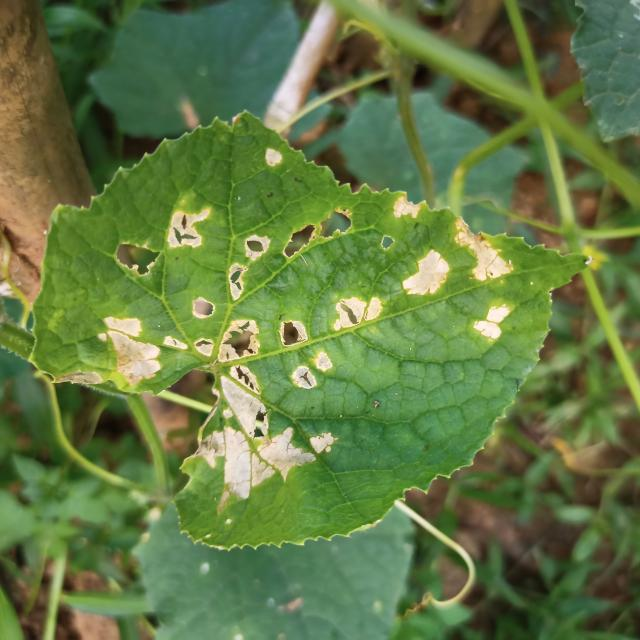disease_cucumber: (92, 205, 338, 501), (339, 182, 520, 356), (257, 139, 289, 180)
